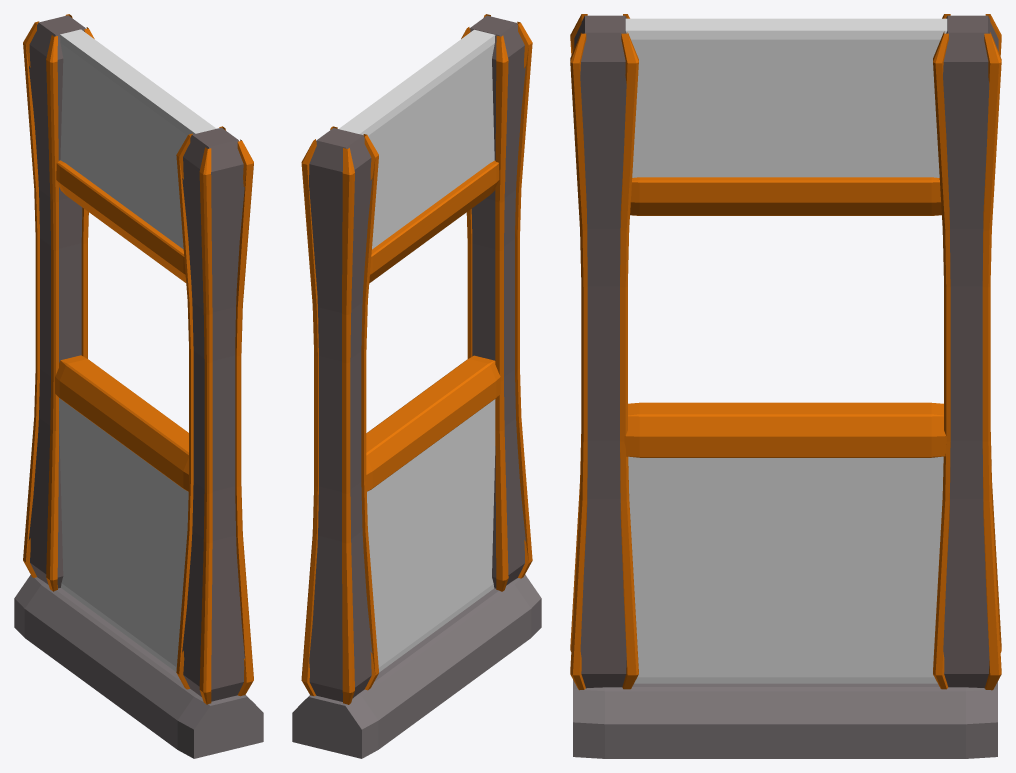
The model's file is wall2.fbx.
3 renders of one model, left to right at view 1: azimuth 30°, elevation 25°; view 2: azimuth 150°, elevation 25°; view 3: azimuth 270°, elevation 25°, orthographic. The views are drawn at different scales.
Visible parts, largest first — view 1: Cube.041; view 2: Cube.041; view 3: Cube.041.
Part boxes in pixels (bbox=[...]): Cube.041: bbox=[14, 14, 263, 758]; Cube.041: bbox=[292, 14, 541, 758]; Cube.041: bbox=[570, 14, 1001, 758].
Size of the model in its own units: 128 by 974 by 533.
